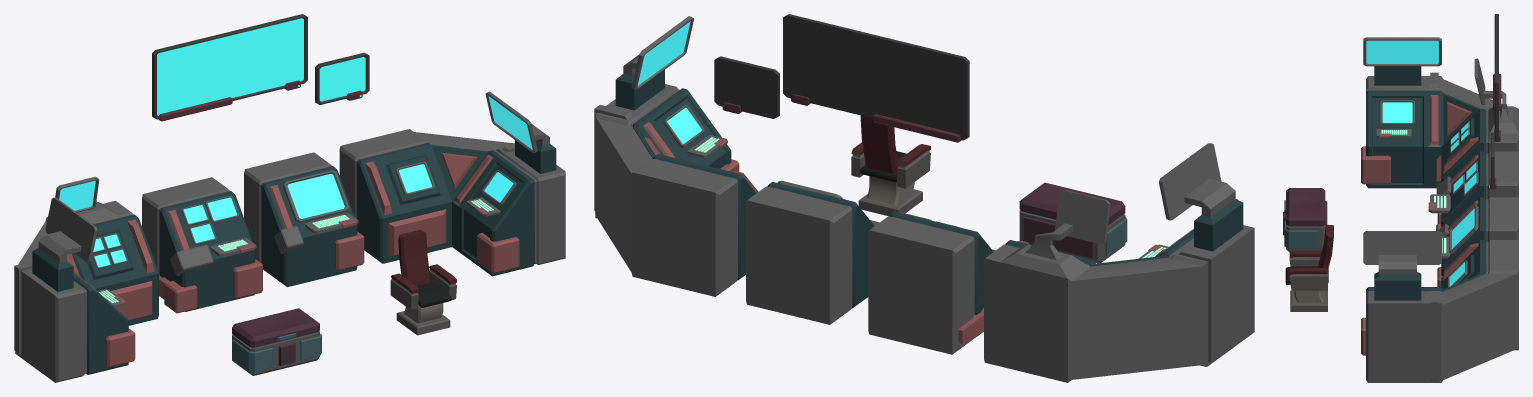
Rendered from sci_fie_props 1.fbx.
3 renders of one model, left to right at view 1: azimuth 30°, elevation 25°; view 2: azimuth 150°, elevation 25°; view 3: azimuth 270°, elevation 25°, orthographic. The views are drawn at different scales.
Visible parts, largest first — view 1: mother_board.001, mother_board.002, mother_board.000, mother_board.003, SCREEN.001, BOX, CHAIR, SCREEN; view 2: mother_board.002, mother_board.001, SCREEN.001, mother_board.000, mother_board.003, CHAIR, BOX, SCREEN; view 3: mother_board.001, mother_board.002, mother_board.003, mother_board.000, CHAIR, BOX, SCREEN.001, SCREEN.
Boxes of the visible parts, x1,y1,x2,y2 form: mother_board.001: (339, 91, 565, 276); mother_board.002: (14, 176, 158, 382); mother_board.000: (244, 152, 364, 287); mother_board.003: (142, 177, 262, 313); SCREEN.001: (152, 14, 307, 121); BOX: (232, 308, 321, 375); CHAIR: (390, 229, 456, 335); SCREEN: (315, 52, 369, 104); mother_board.002: (984, 143, 1254, 382); mother_board.001: (594, 16, 758, 296); SCREEN.001: (783, 14, 969, 142); mother_board.000: (746, 180, 879, 324); mother_board.003: (868, 211, 995, 354); CHAIR: (851, 115, 930, 216); BOX: (1019, 182, 1127, 263); SCREEN: (714, 56, 779, 118); mother_board.001: (1361, 231, 1518, 382); mother_board.002: (1361, 37, 1518, 188); mother_board.003: (1428, 151, 1518, 230); mother_board.000: (1437, 197, 1518, 286); CHAIR: (1285, 224, 1333, 311); BOX: (1283, 188, 1327, 251); SCREEN.001: (1493, 14, 1501, 141); SCREEN: (1489, 132, 1496, 189).
Bounding box in the file's own units: 651 × 288 × 283.
